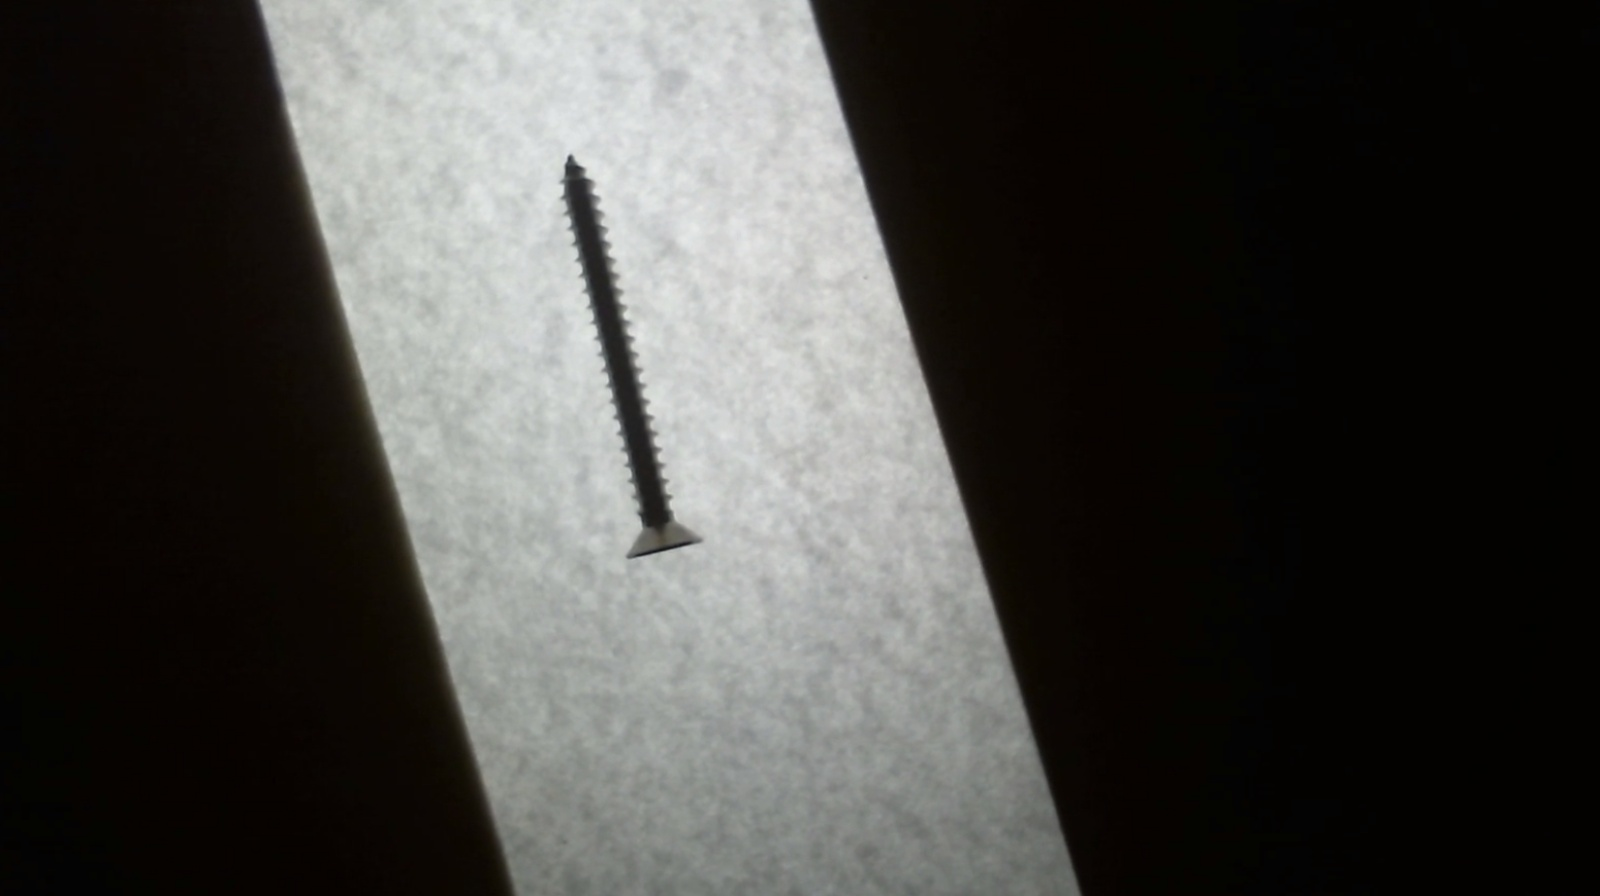S002: (546, 155, 711, 567)
